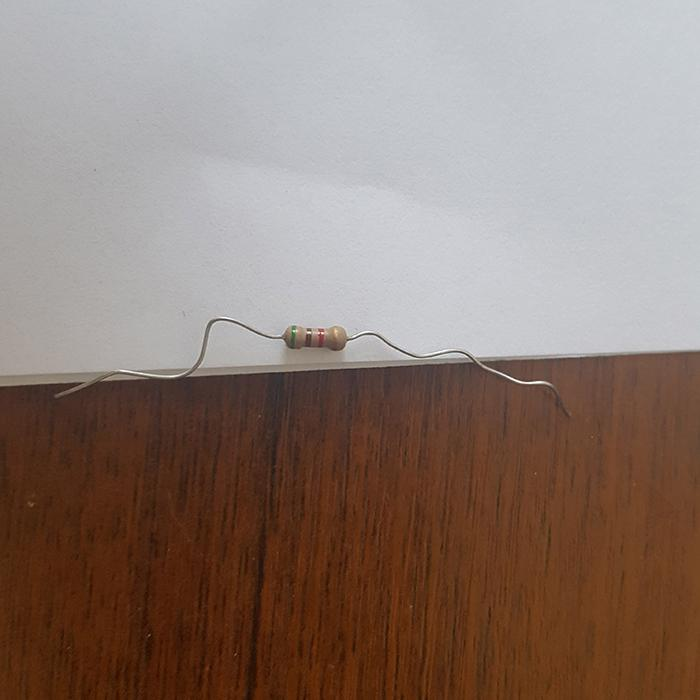resistor: (283, 323, 346, 349)
